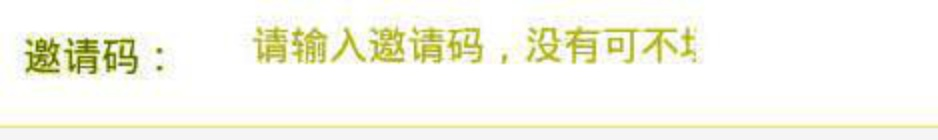EditText: (1, 1, 937, 139)
